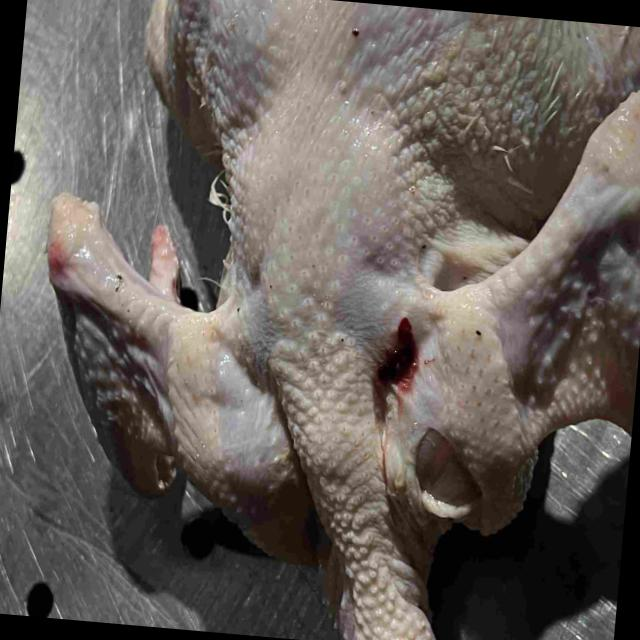back: (219, 0, 531, 325)
leg: (145, 0, 218, 150), (578, 21, 640, 91)
neck: (292, 379, 436, 640)
wing: (46, 198, 312, 566), (432, 103, 640, 480)
